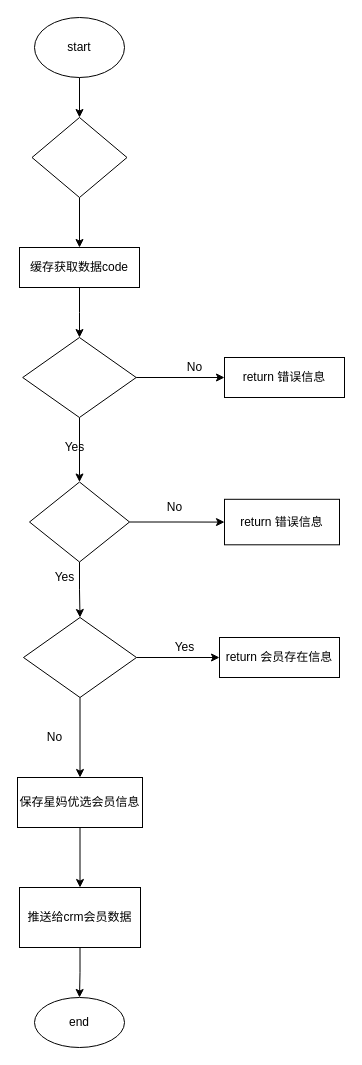
Image size: 362x1065. Some labels were removed from this diagram. The box of each missing label's shape, as (x1, y1, x2, y2) in pixels:
校验code正确性: (28, 481, 130, 562)
校验openId: (31, 116, 127, 198)
通过memberId和渠道查询会员: (22, 616, 136, 698)
非空判断code: (22, 336, 136, 418)
